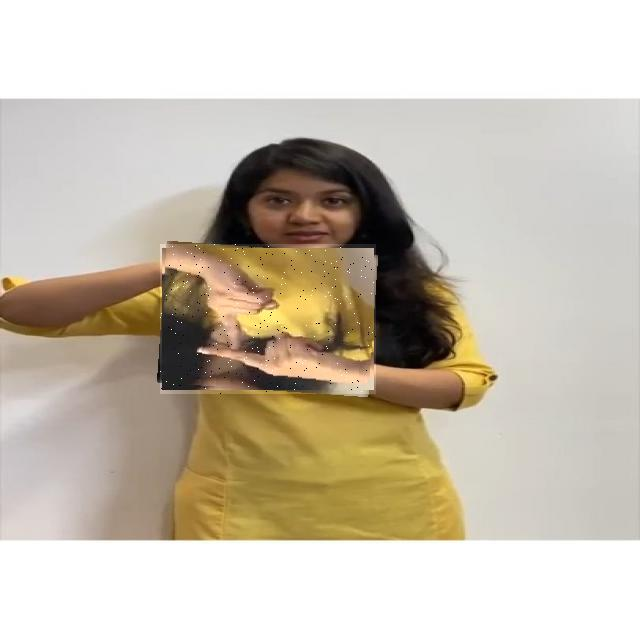T: (160, 244, 376, 394)
